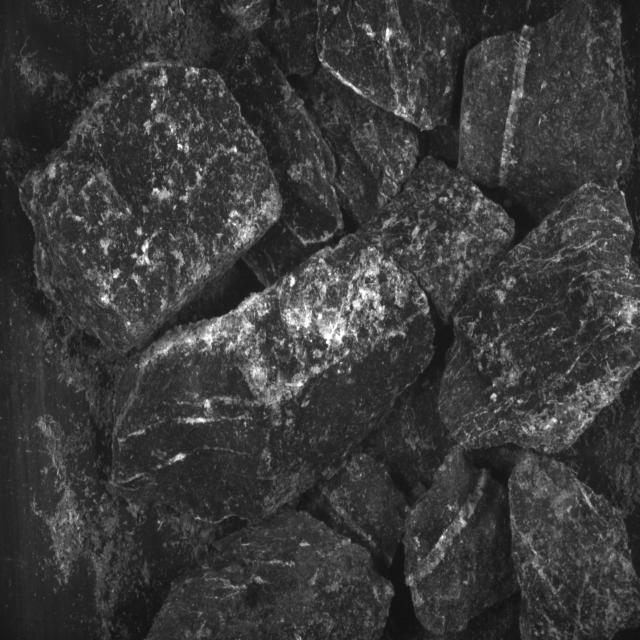Stones: (112, 237, 435, 523), (21, 63, 282, 352), (440, 185, 640, 453), (460, 3, 635, 219), (150, 512, 395, 640), (359, 158, 516, 322), (510, 455, 640, 640), (230, 42, 344, 246), (404, 447, 519, 637), (299, 67, 420, 226), (317, 1, 464, 131), (304, 453, 410, 569)
